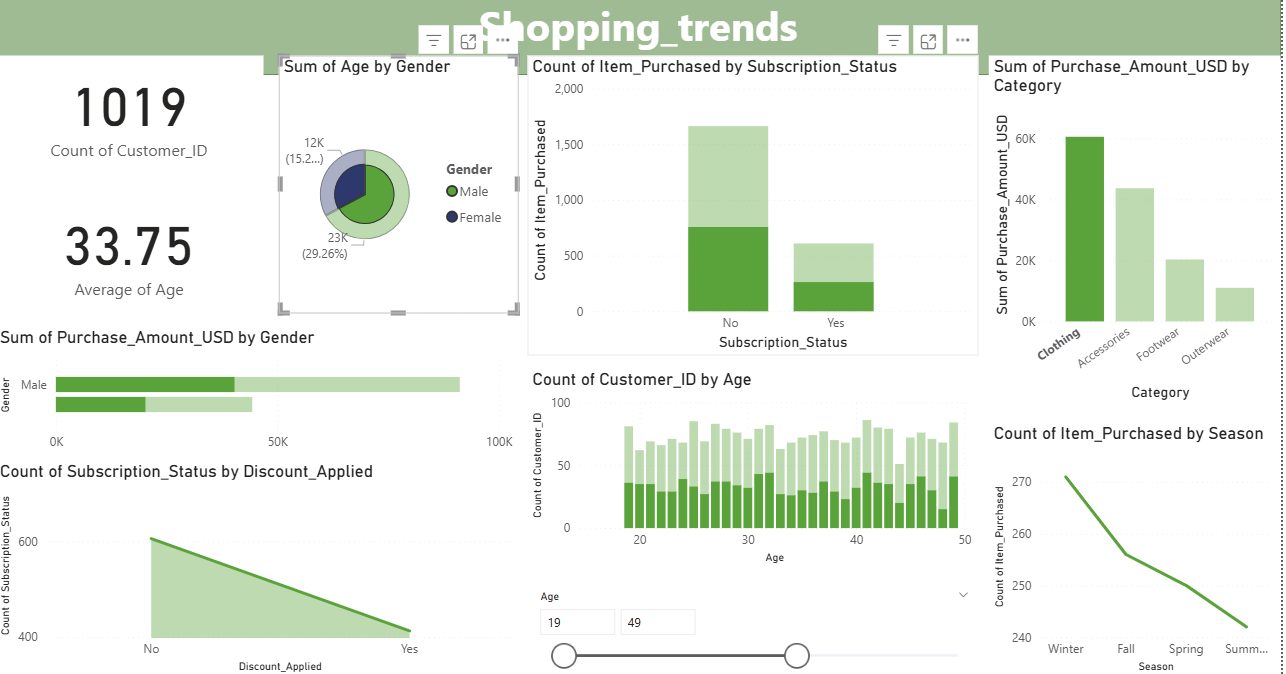

The dashboard page shown, as its layout file describes it:
{"tool":"powerbi","page":{"name":"Page 1","canvas":[1280,720],"ordinal":0},"visuals":[{"type":"shape","box":[0,20.6,1280.3,100.2],"z":0},{"type":"pieChart","fields":{"Category":["shopping_trends.Gender"],"Y":["Sum(shopping_trends.Age)"]},"box":[282.9,101.9,237.7,257.5],"z":1000},{"type":"clusteredColumnChart","fields":{"Y":["Sum(shopping_trends.Purchase_Amount_USD)"],"Category":["shopping_trends.Category"]},"box":[989.5,101.6,290.8,348.6],"z":2000},{"type":"columnChart","fields":{"Category":["shopping_trends.Subscription_Status"],"Y":["CountNonNull(shopping_trends.Item_Purchased)"]},"box":[530.5,101.9,448.5,298.5],"z":3000},{"type":"card","fields":{"Values":["CountNonNull(shopping_trends.Customer_ID)"]},"box":[0,101.6,267.3,111],"z":4000},{"type":"card","fields":{"Values":["Avg(shopping_trends.Age)"]},"box":[0,231.4,267.3,128.2],"z":5000},{"type":"barChart","fields":{"Category":["shopping_trends.Gender"],"Y":["Sum(shopping_trends.Purchase_Amount_USD)"]},"box":[0,372.1,520.6,132.9],"z":6000},{"type":"areaChart","fields":{"Category":["shopping_trends.Discount_Applied"],"Y":["CountNonNull(shopping_trends.Subscription_Status)"]},"box":[0,504.9,520.6,215.7],"z":7000},{"type":"lineChart","fields":{"Category":["shopping_trends.Season"],"Y":["CountNonNull(shopping_trends.Item_Purchased)"]},"box":[989.5,467.4,290.8,253.2],"z":8000},{"type":"lineClusteredColumnComboChart","fields":{"Y":["CountNonNull(shopping_trends.Customer_ID)"],"Category":["shopping_trends.Age"]},"box":[530.5,414.5,447,198.1],"z":8001},{"type":"slicer","fields":{"Values":["shopping_trends.Age"]},"box":[530.5,628.1,451.3,92],"z":8002}]}

Visuals, with their boxes on the page's 1280x720 design canvas (x1, y1, x2, y2). These are canvas units, not pixel positions in the 1286x674 screenshot, which may show the page scaled, cropped or inside an application window:
shape: 0/21/1280/121
pieChart - shopping_trends.Gender x Sum(shopping_trends.Age): 283/102/521/359
clusteredColumnChart - Sum(shopping_trends.Purchase_Amount_USD) x shopping_trends.Category: 990/102/1280/450
columnChart - shopping_trends.Subscription_Status x CountNonNull(shopping_trends.Item_Purchased): 530/102/979/400
card - CountNonNull(shopping_trends.Customer_ID): 0/102/267/213
card - Avg(shopping_trends.Age): 0/231/267/360
barChart - shopping_trends.Gender x Sum(shopping_trends.Purchase_Amount_USD): 0/372/521/505
areaChart - shopping_trends.Discount_Applied x CountNonNull(shopping_trends.Subscription_Status): 0/505/521/721
lineChart - shopping_trends.Season x CountNonNull(shopping_trends.Item_Purchased): 990/467/1280/721
lineClusteredColumnComboChart - CountNonNull(shopping_trends.Customer_ID) x shopping_trends.Age: 530/414/978/613
slicer - shopping_trends.Age: 530/628/982/720
